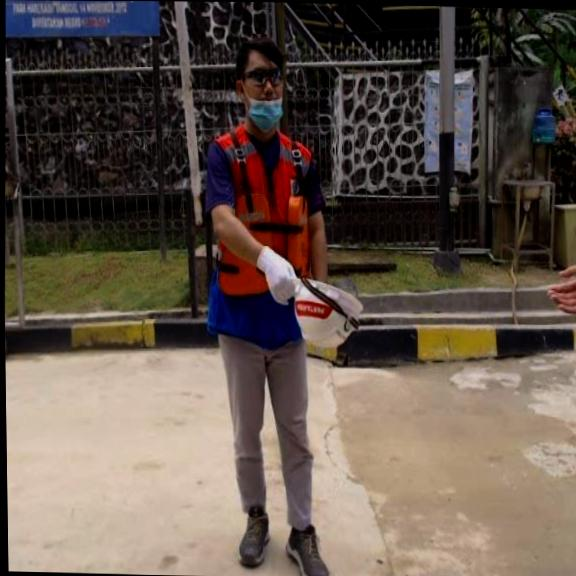safety_vest: (218, 190, 316, 296)
